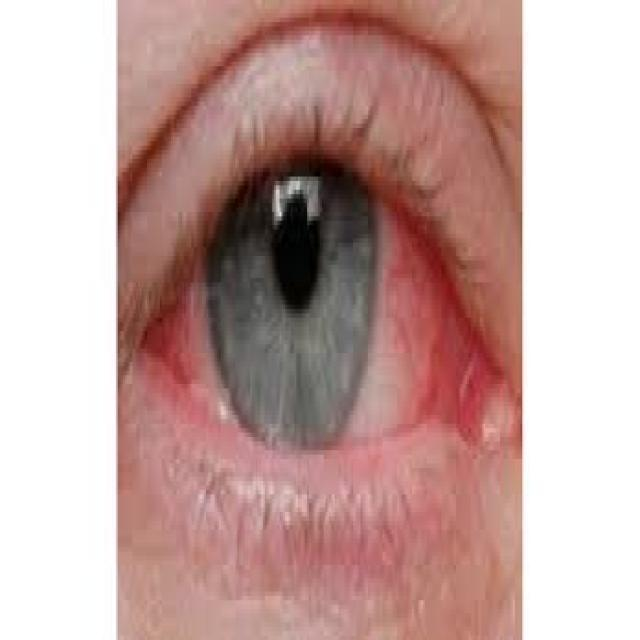Rosacea: (134, 176, 476, 438)
